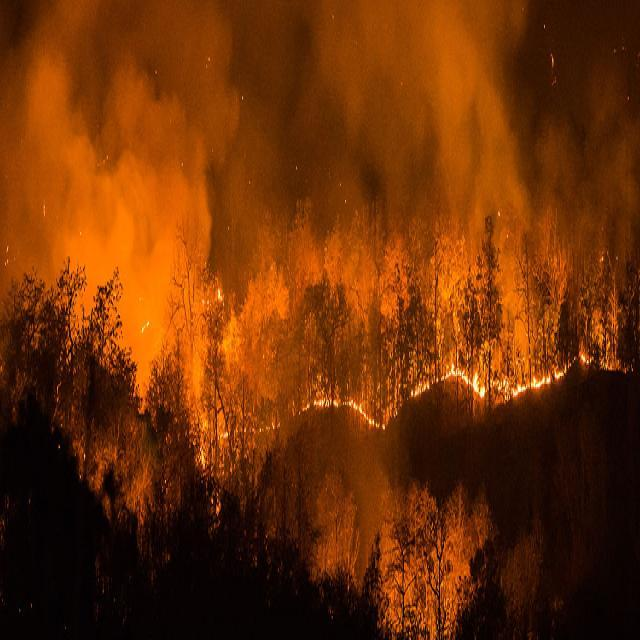Smoke: (0, 0, 242, 504), (288, 0, 554, 396), (538, 51, 640, 337)
